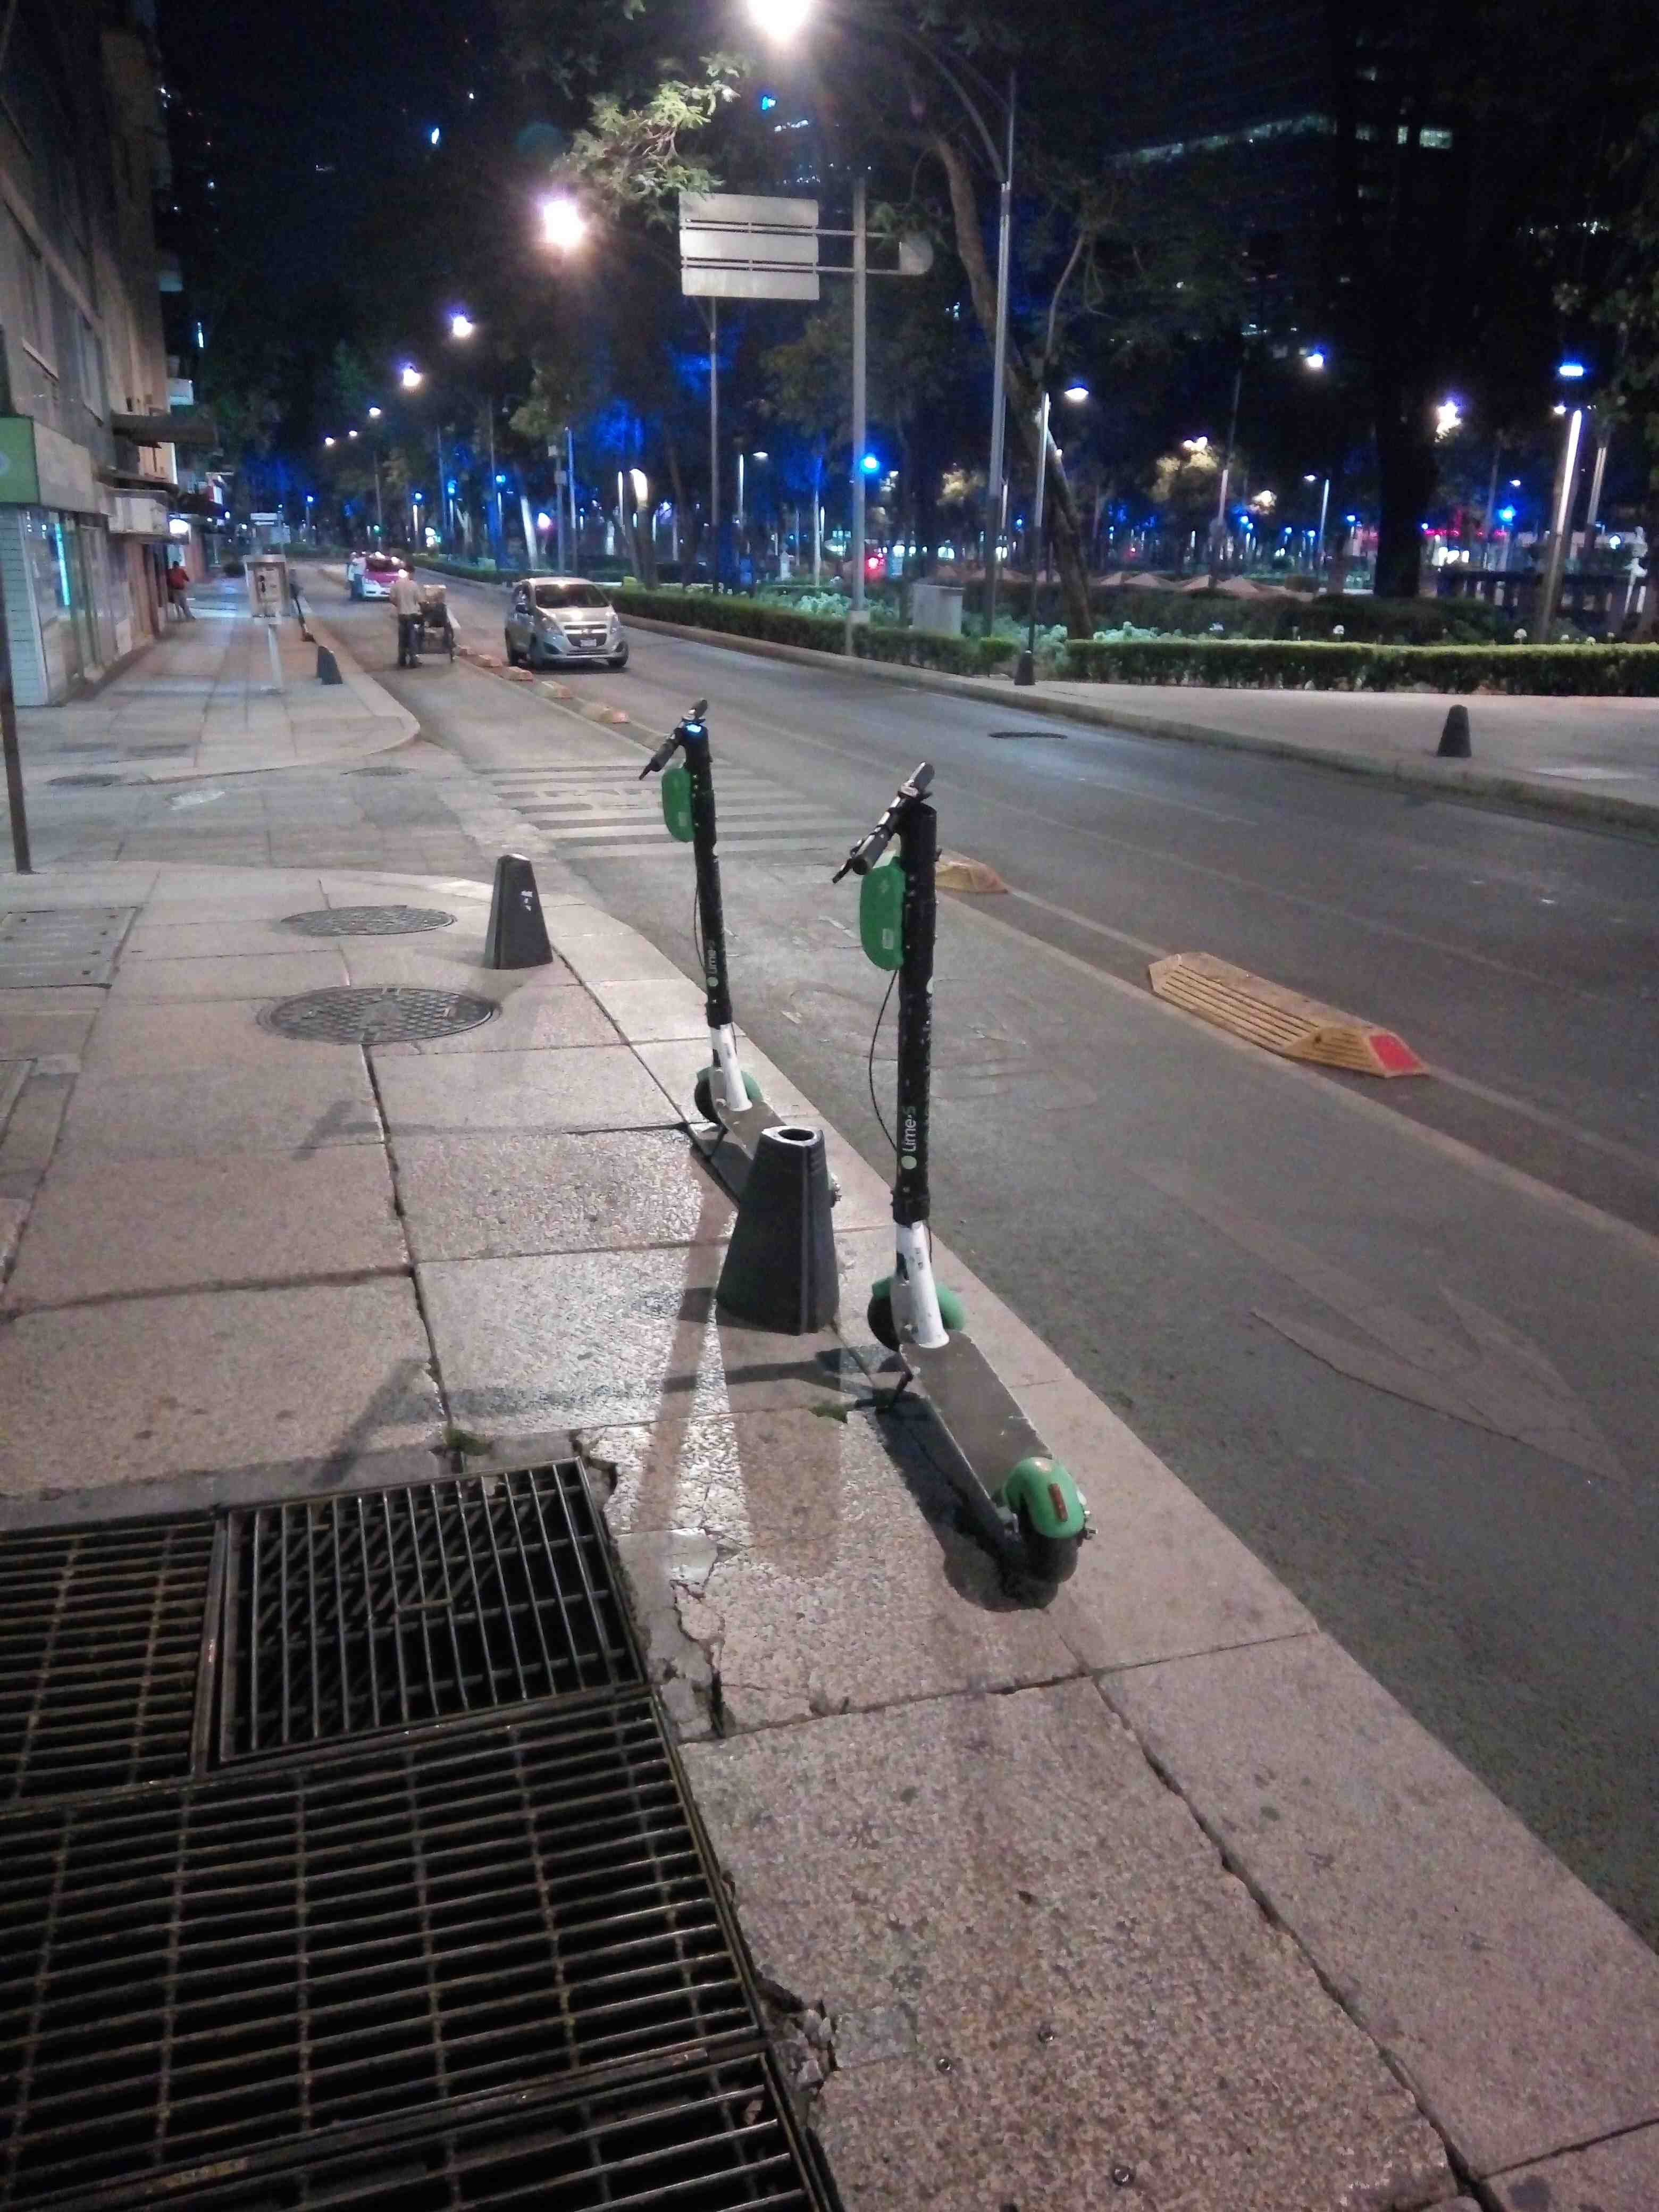too close: (936, 1407, 1143, 1620)
